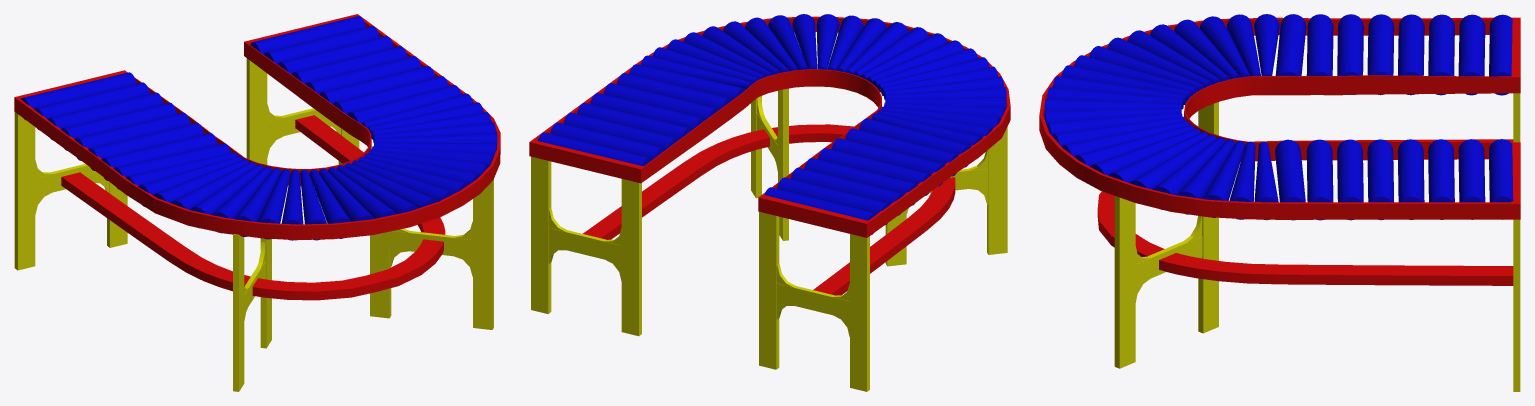
Rendered from Conveyor_Curvy.fbx.
3 renders of one model, left to right at view 1: azimuth 30°, elevation 25°; view 2: azimuth 150°, elevation 25°; view 3: azimuth 270°, elevation 25°, orthographic. The views are drawn at different scales.
Visible parts, largest first — view 1: Curvy_Conveyor1; view 2: Curvy_Conveyor1; view 3: Curvy_Conveyor1.
Boxes of the visible parts, x1,y1,x2,y2 form: Curvy_Conveyor1: (14,14,500,391); Curvy_Conveyor1: (529,14,1010,391); Curvy_Conveyor1: (1039,14,1520,391).
Size of the model in its own units: 8.74 by 4.24 by 9.54.
